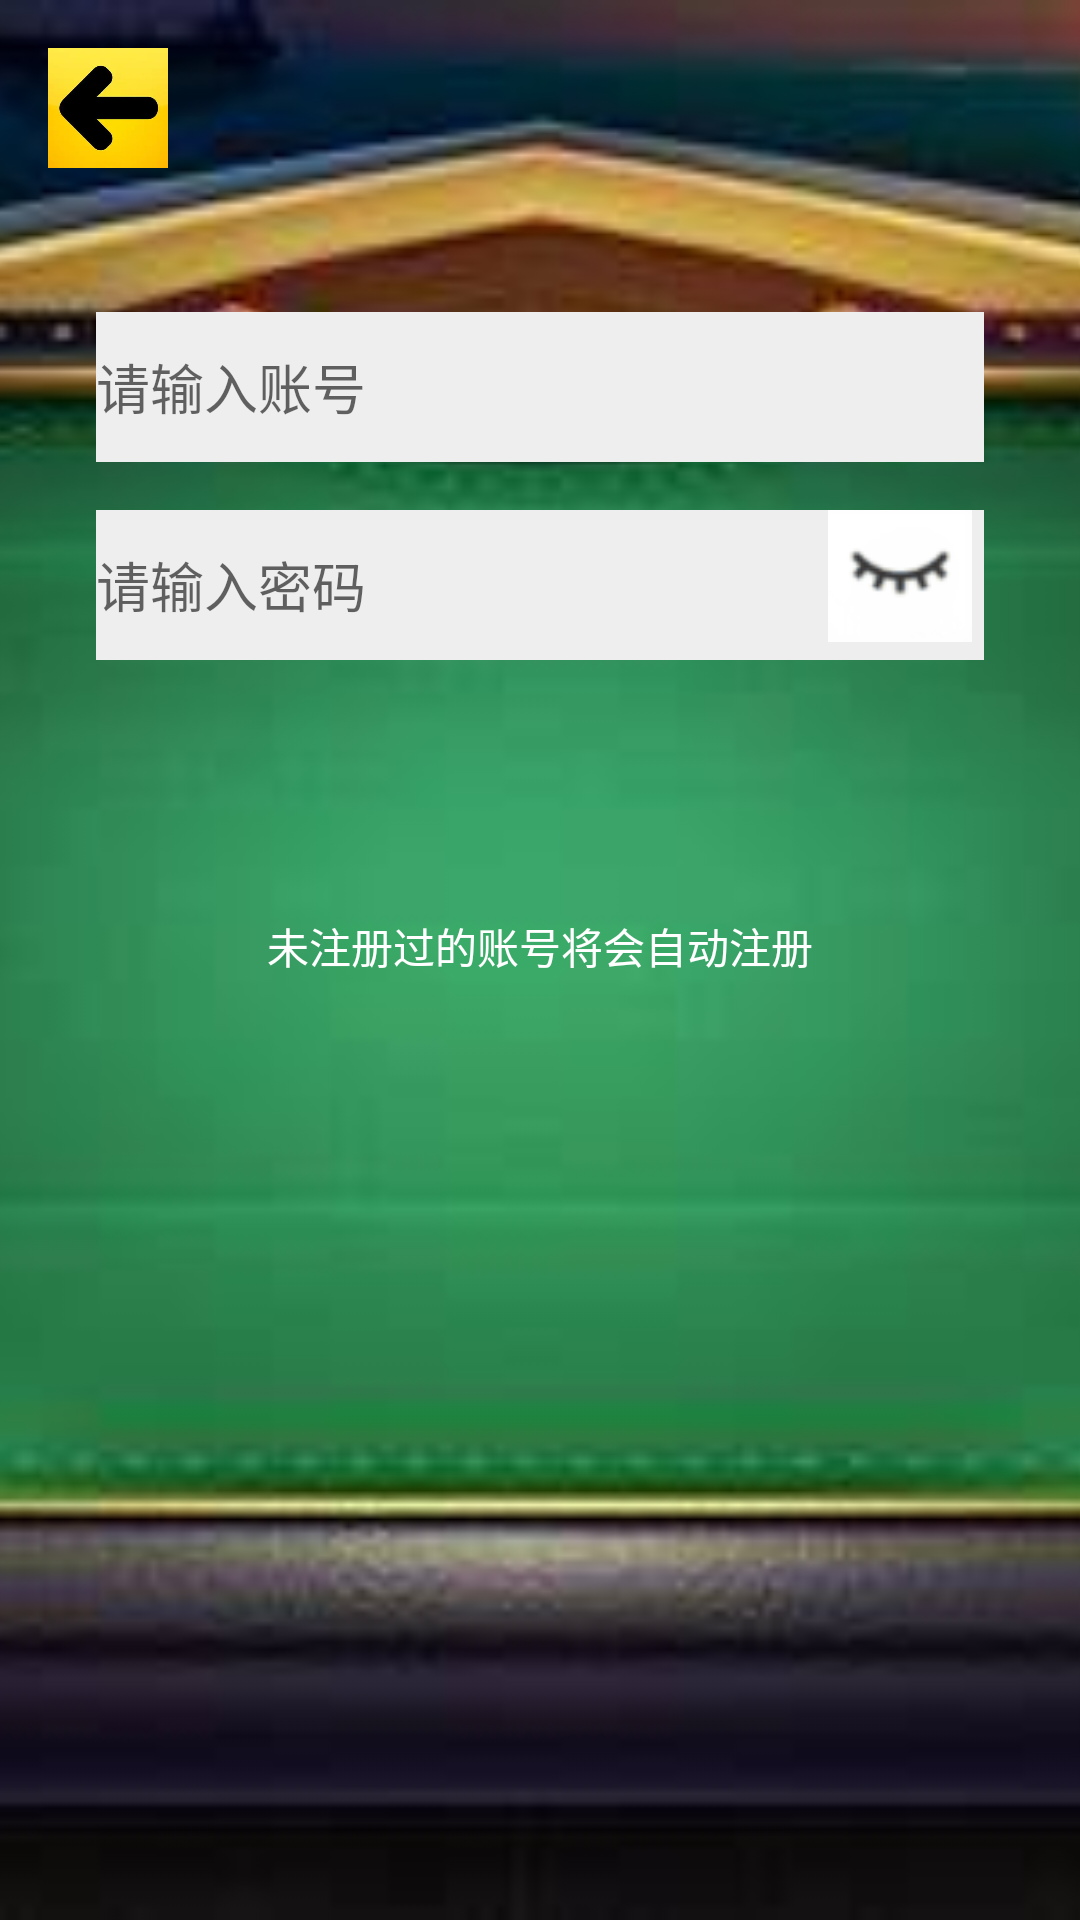

Named icons in this screenshot (1080px×1920px) and their centers, (x,y):
显示密码: (900,573)
返回: (108,108)
